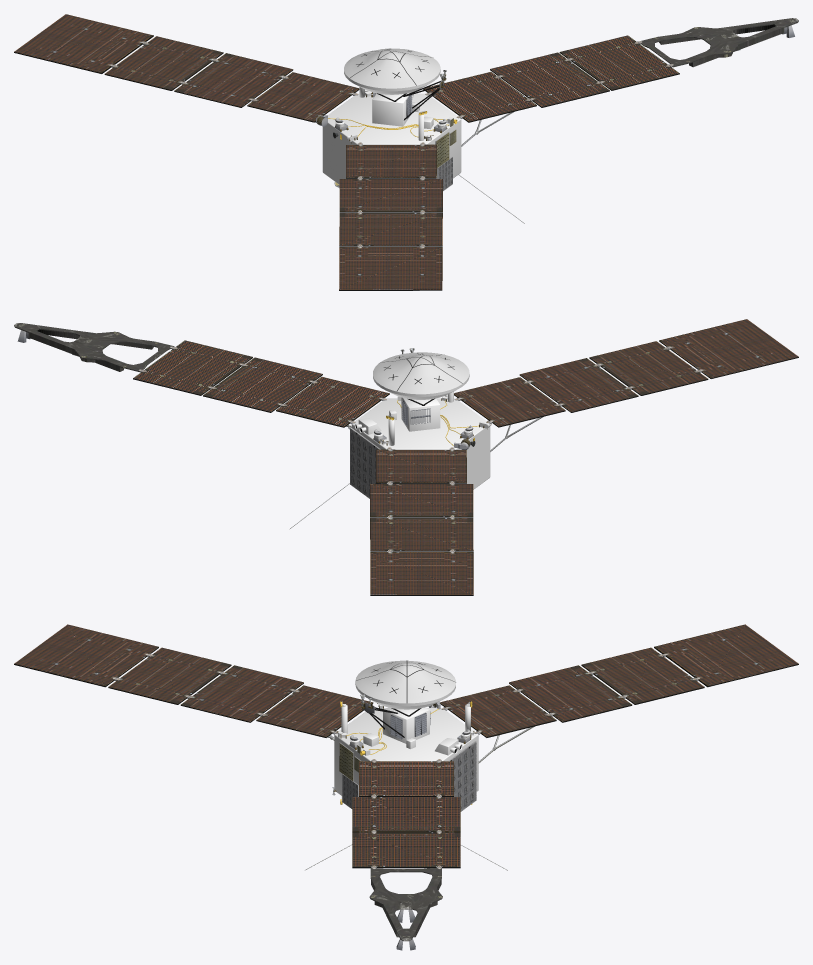
Rendered from Juno.glb.
The picture shows the model from 3 angles, top to bottom: view 1: azimuth 30°, elevation 25°; view 2: azimuth 150°, elevation 25°; view 3: azimuth 270°, elevation 25°; orthographic projection. The views are drawn at different scales.
Parts seen in each view (by area): view 1: shiny_panels, silver_foil.002, dish_top, solar_panels, tex_01, black_krinkle, silver_foil, dish_bottom; view 2: shiny_panels, silver_foil.002, dish_top, tex_01, solar_panels, black_krinkle, silver_foil; view 3: shiny_panels, tex_01, silver_foil.002, dish_top, solar_panels, black_krinkle, silver_foil.
Part boxes in pixels (bbox=[...]): shiny_panels: bbox=[14, 14, 679, 289]; silver_foil.002: bbox=[322, 93, 461, 184]; dish_top: bbox=[344, 48, 440, 88]; solar_panels: bbox=[373, 18, 798, 290]; tex_01: bbox=[110, 25, 794, 247]; black_krinkle: bbox=[14, 35, 679, 290]; silver_foil: bbox=[335, 87, 452, 141]; dish_bottom: bbox=[344, 69, 440, 94]; shiny_panels: bbox=[133, 319, 798, 594]; silver_foil.002: bbox=[351, 398, 490, 489]; dish_top: bbox=[373, 352, 469, 394]; tex_01: bbox=[17, 330, 702, 552]; solar_panels: bbox=[14, 323, 396, 594]; black_krinkle: bbox=[133, 340, 798, 595]; silver_foil: bbox=[354, 391, 490, 445]; shiny_panels: bbox=[14, 624, 798, 866]; tex_01: bbox=[112, 653, 699, 950]; silver_foil.002: bbox=[334, 708, 478, 795]; dish_top: bbox=[355, 660, 455, 703]; solar_panels: bbox=[369, 868, 442, 941]; black_krinkle: bbox=[14, 647, 798, 868]; silver_foil: bbox=[338, 704, 473, 800].
Size of what is drawn, in the model's own units: 17.65 by 4.26 by 18.54.
13 materials, 7 textured.
